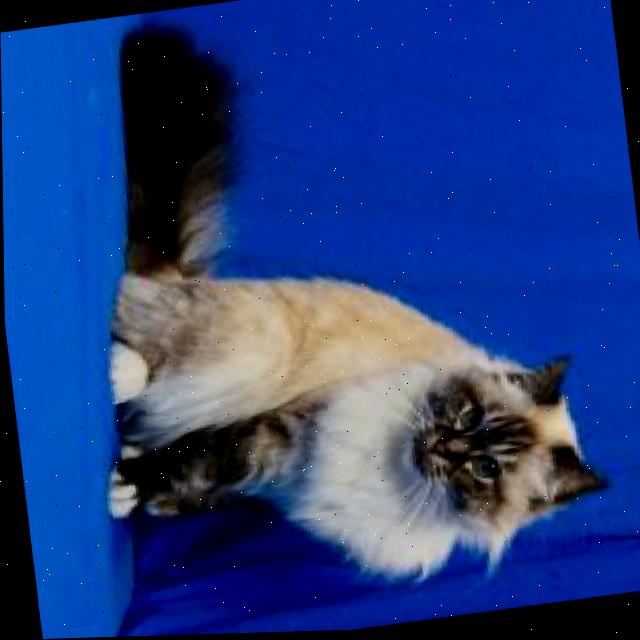Birman: (44, 0, 622, 632)
